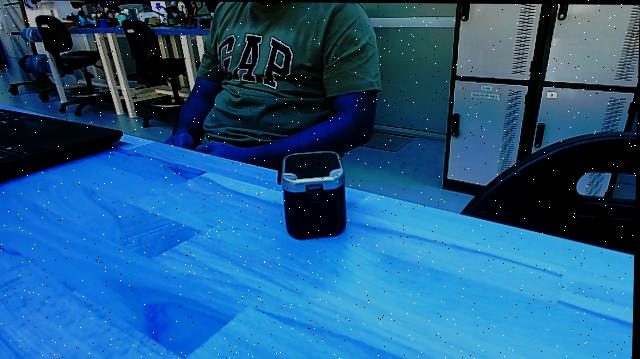adapter: (270, 148, 359, 244)
